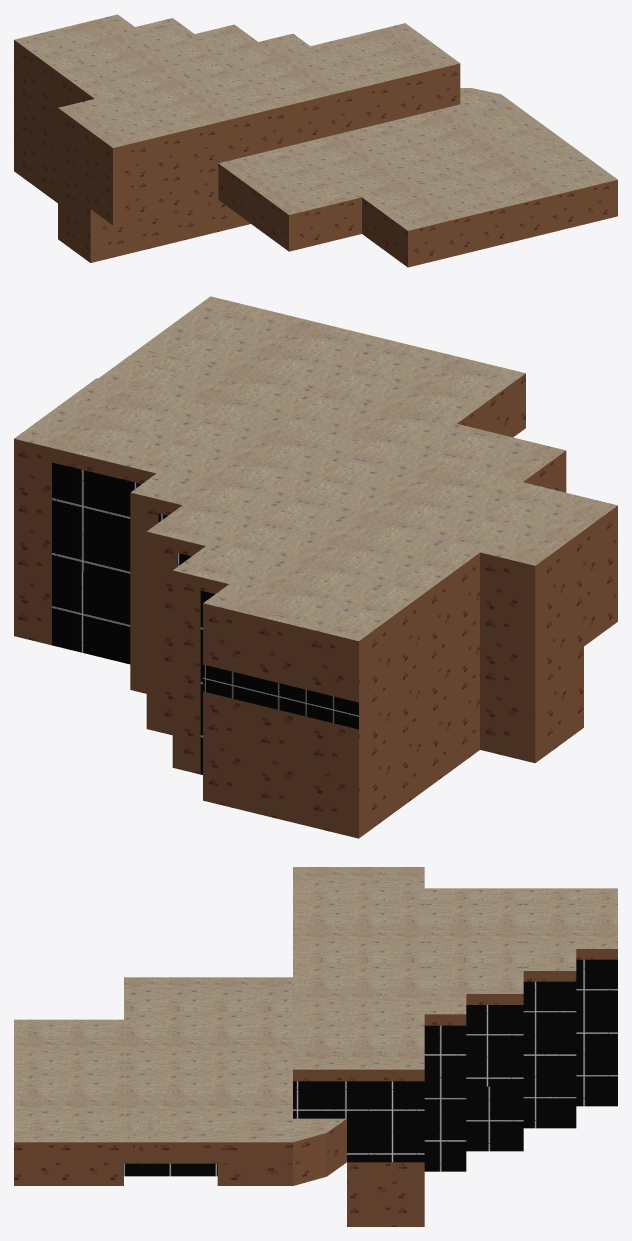
Rendered from ens.obj.
3 renders of one model, top to bottom at view 1: azimuth 30°, elevation 25°; view 2: azimuth 150°, elevation 25°; view 3: azimuth 270°, elevation 25°, orthographic. The views are drawn at different scales.
Visible parts, largest first — view 1: Cube; view 2: Cube; view 3: Cube.
Boxes of the visible parts, x1=… form: Cube: x1=14, y1=14, x2=617, y2=267; Cube: x1=14, y1=296, x2=617, y2=838; Cube: x1=14, y1=867, x2=617, y2=1226.
Size of the model in its own units: 7.48 by 2.42 by 8.43.
3 materials, 3 textured.
